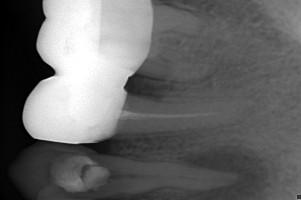Furcation Involvement: (179, 142, 271, 200)
